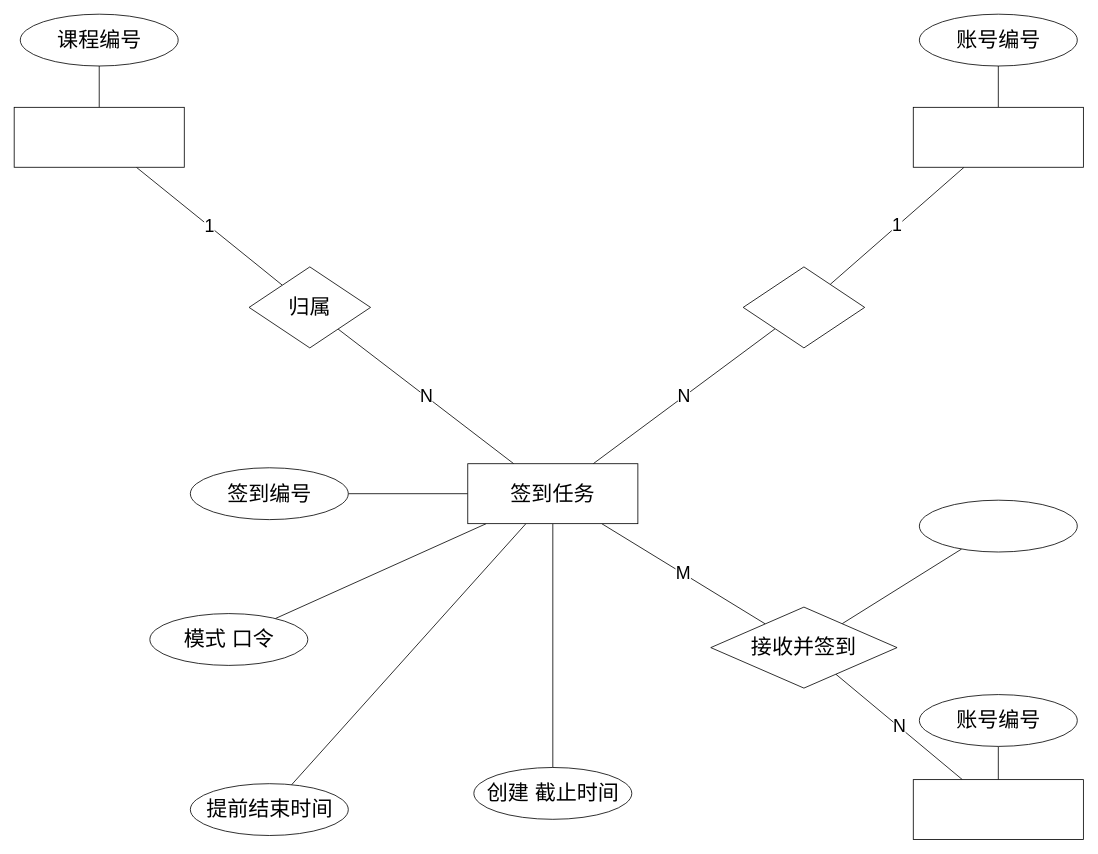
The diagram is 1098 pixels wide and 854 high, and some of its shapes have lost their labels. Each missing label, with the box of its shape:
发布: (742, 266, 865, 348)
签到时间: (919, 499, 1077, 552)
课程: (13, 107, 184, 167)
账号（学生）: (912, 779, 1083, 840)
账号（教师）: (912, 107, 1083, 167)
